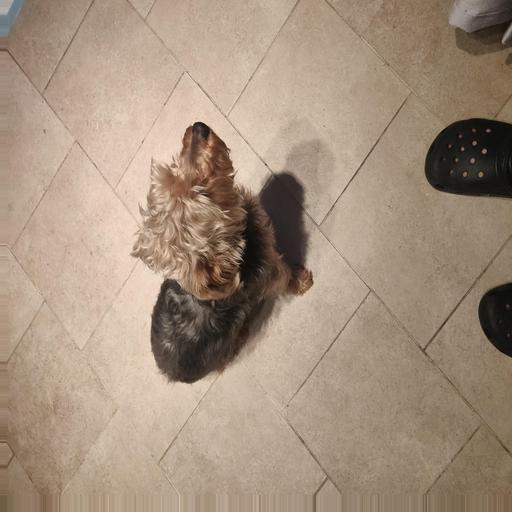dog: (121, 136, 297, 312)
